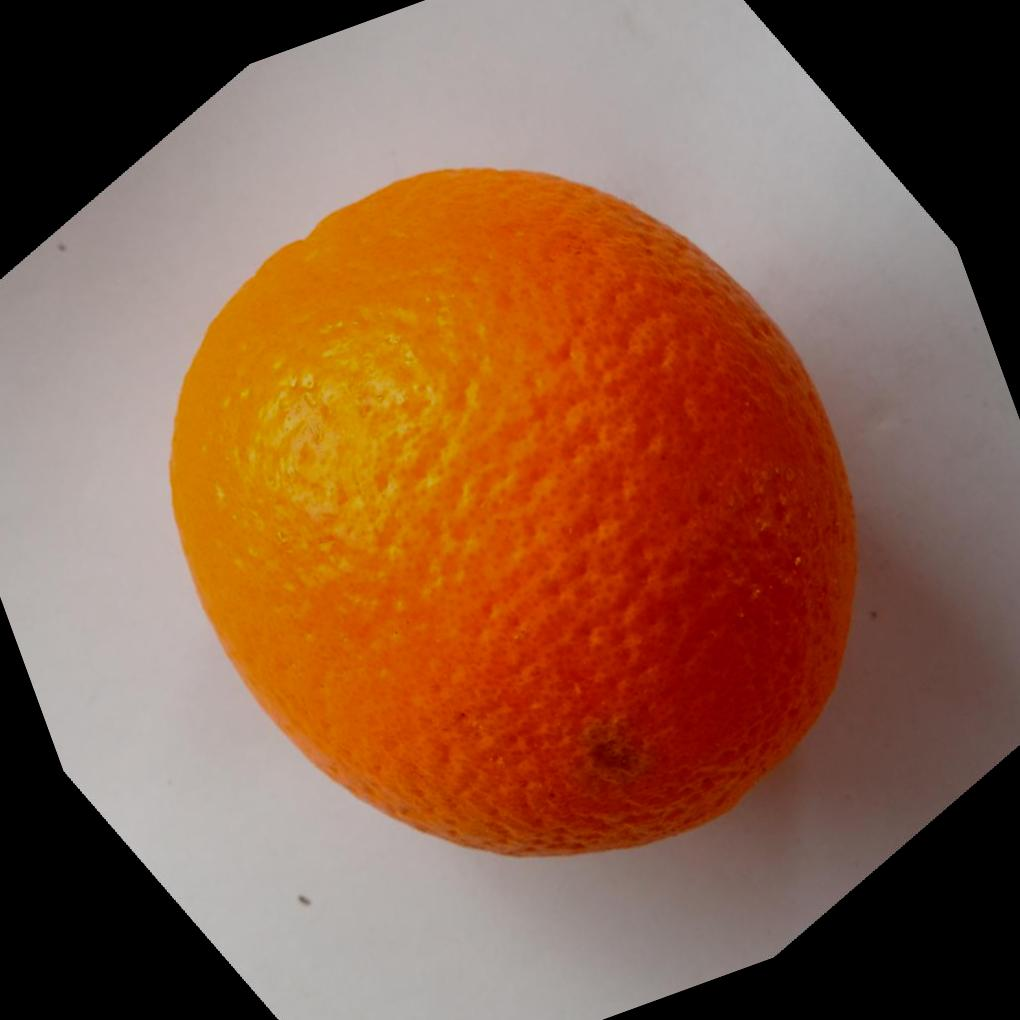FreshGuava: (163, 160, 859, 856)
